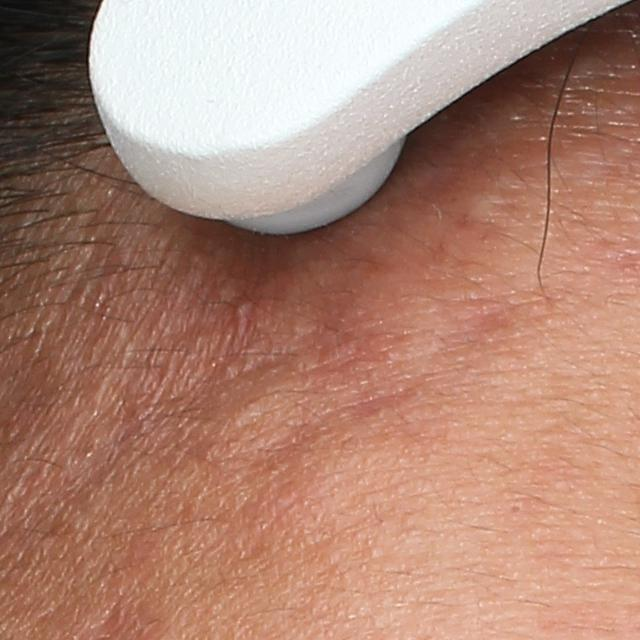atrophic_scar: (188, 237, 399, 427), (217, 355, 442, 485)
comedo: (508, 501, 525, 517)
